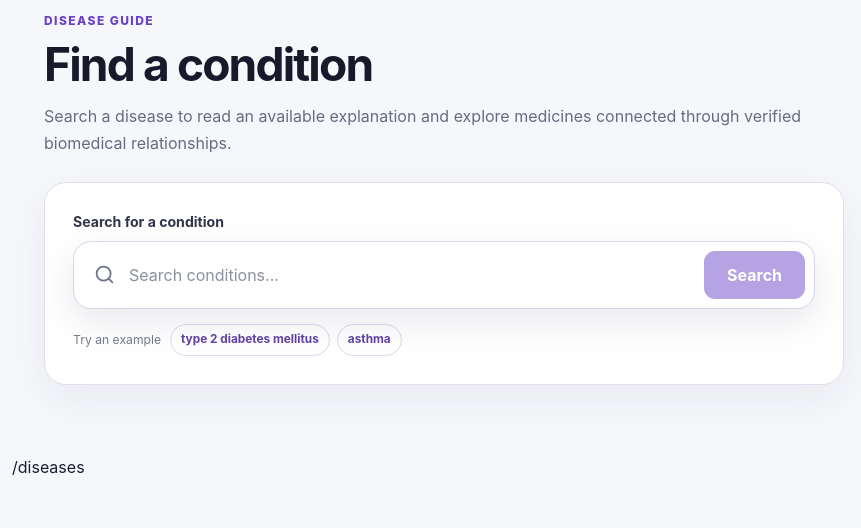
DiseaseGuide › does not let an older suggestion response replace the current query
In the dropdown: point(410, 275) [127,262,692,288], type "dia"
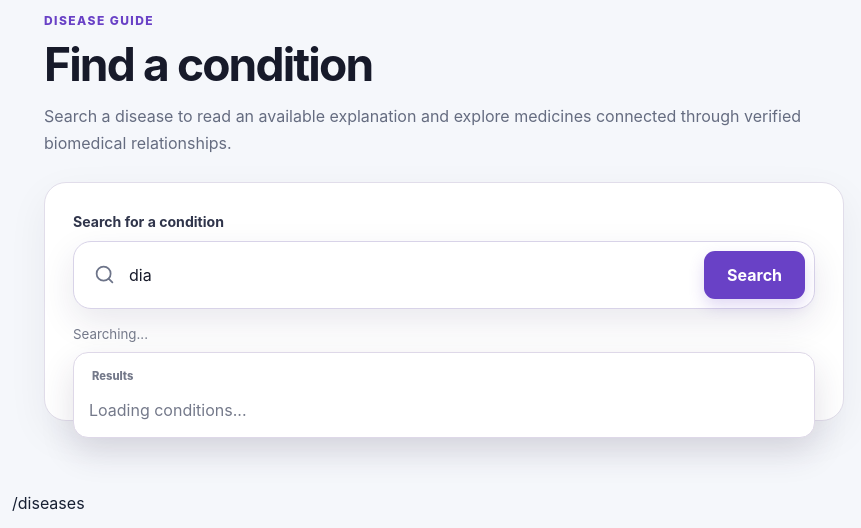
Replace the text in the dropdown with "diab": point(410, 275) [127,262,692,288]
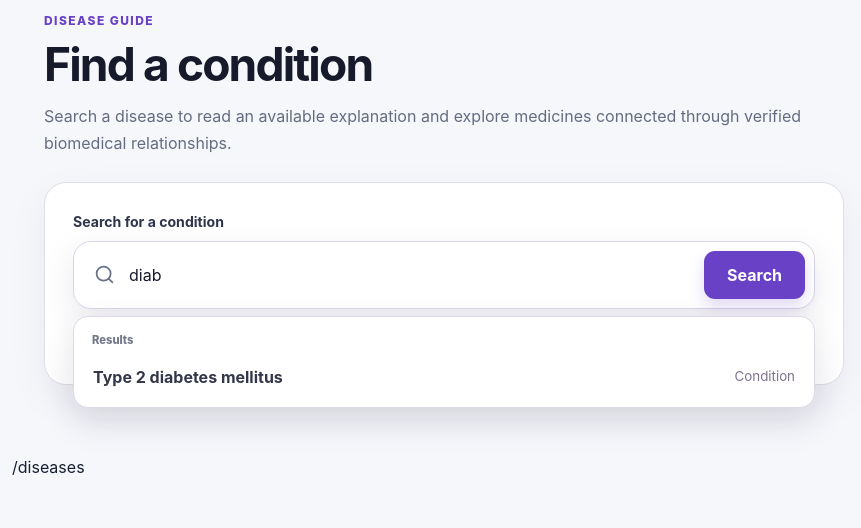
expect the text "Type 2 diabetes mellitus" is shown: met, box [93,365,283,389]
